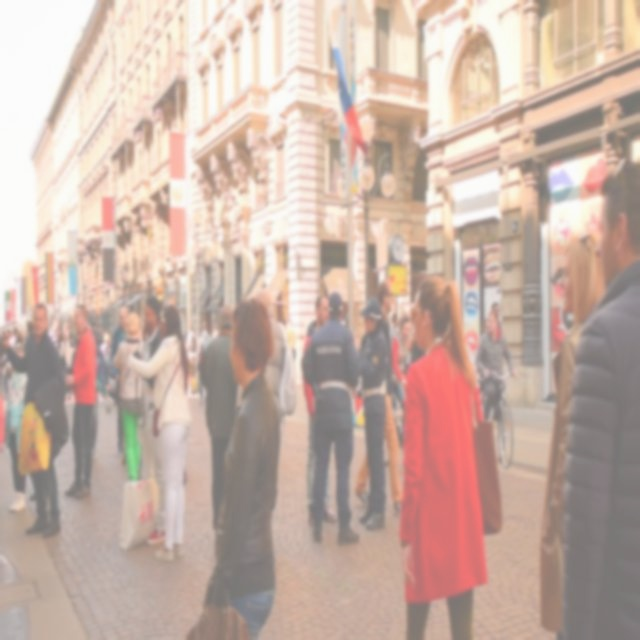pessoa: (397, 274, 502, 638), (561, 156, 639, 639), (184, 294, 284, 638), (537, 226, 609, 634), (124, 302, 194, 562), (0, 297, 72, 542), (298, 286, 362, 548), (354, 277, 404, 516), (198, 304, 240, 532), (300, 293, 338, 528), (135, 293, 168, 548), (472, 306, 520, 466), (356, 296, 388, 532), (235, 286, 287, 426), (190, 125, 273, 208), (62, 301, 96, 503), (111, 309, 146, 484), (4, 341, 30, 515), (106, 304, 130, 459), (90, 327, 111, 460), (49, 308, 78, 400), (0, 322, 18, 450), (389, 302, 424, 360), (389, 313, 413, 388), (195, 320, 212, 406), (183, 320, 200, 395), (90, 313, 112, 367), (478, 298, 505, 334), (284, 316, 297, 363), (22, 306, 34, 354), (26, 470, 37, 504), (210, 322, 218, 338)
